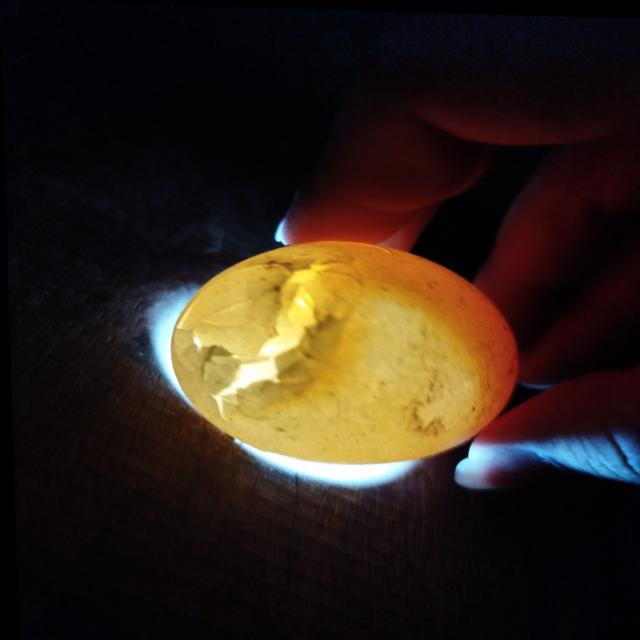Rachadura: (167, 248, 365, 429)
